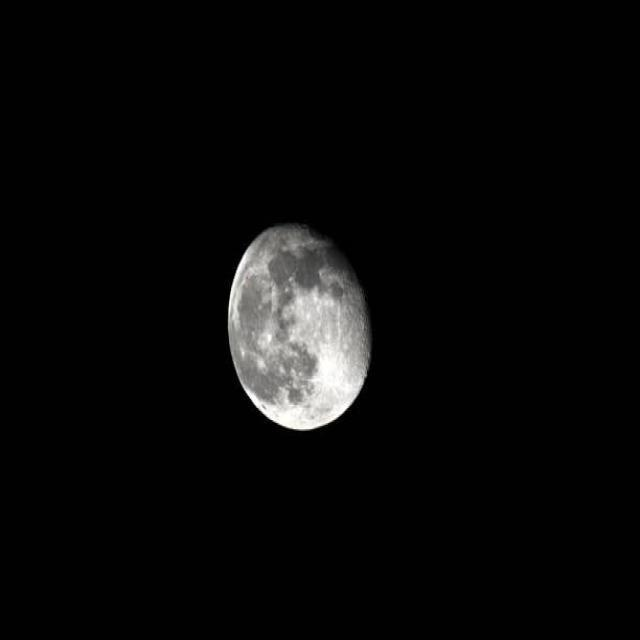moon: (221, 188, 377, 429)
